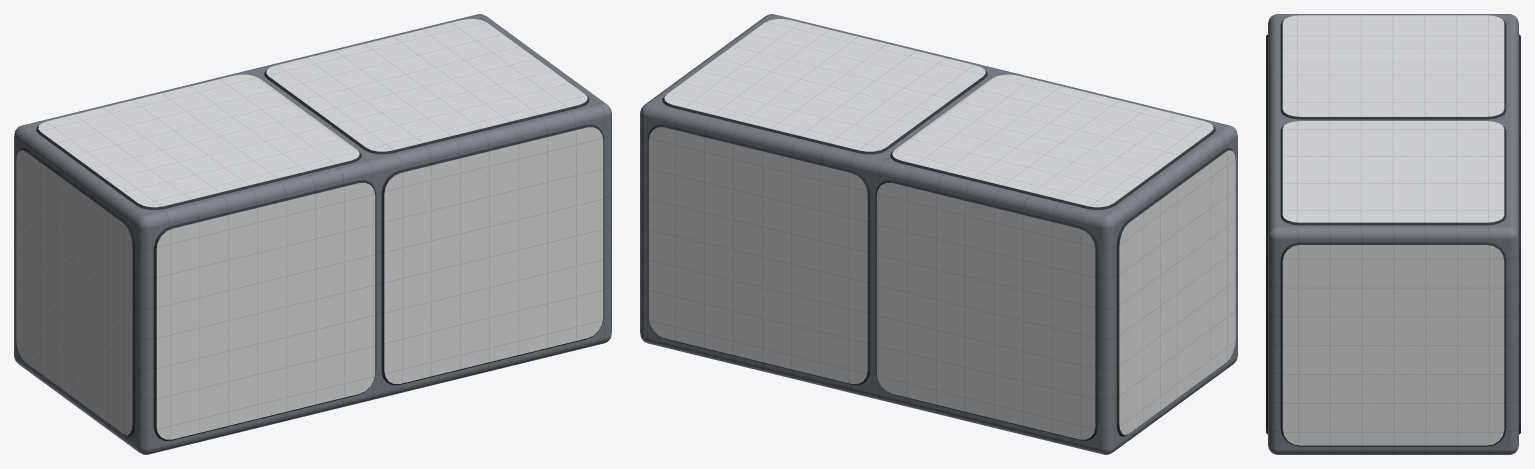
Rendered from R4B_Beam2.glb.
3 views of the same model, side by side, from view 1: azimuth 30°, elevation 25°; view 2: azimuth 150°, elevation 25°; view 3: azimuth 270°, elevation 25° (orthographic). The views are drawn at different scales.
Visible parts, largest first — view 1: R4B_Beam2; view 2: R4B_Beam2; view 3: R4B_Beam2.
Part boxes in pixels (x1,y1,x2,y2): R4B_Beam2: (14, 14, 611, 454); R4B_Beam2: (640, 14, 1237, 454); R4B_Beam2: (1266, 14, 1520, 454).
Size of the model in its own units: 1.07 by 0.52 by 0.52.
3 materials, 3 textured.
